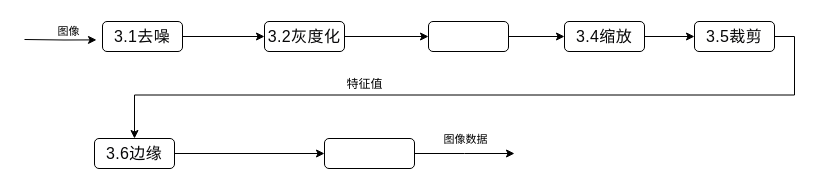
Image size: 820x186. Some labels were removed from this diagram. The shapes that lost their labels are listed below. From the top down, each one's centre as x and y in pixels, then its label:
At point 468,36: "3.3直方图均衡化".
At point 369,153: "3.7归一化".
